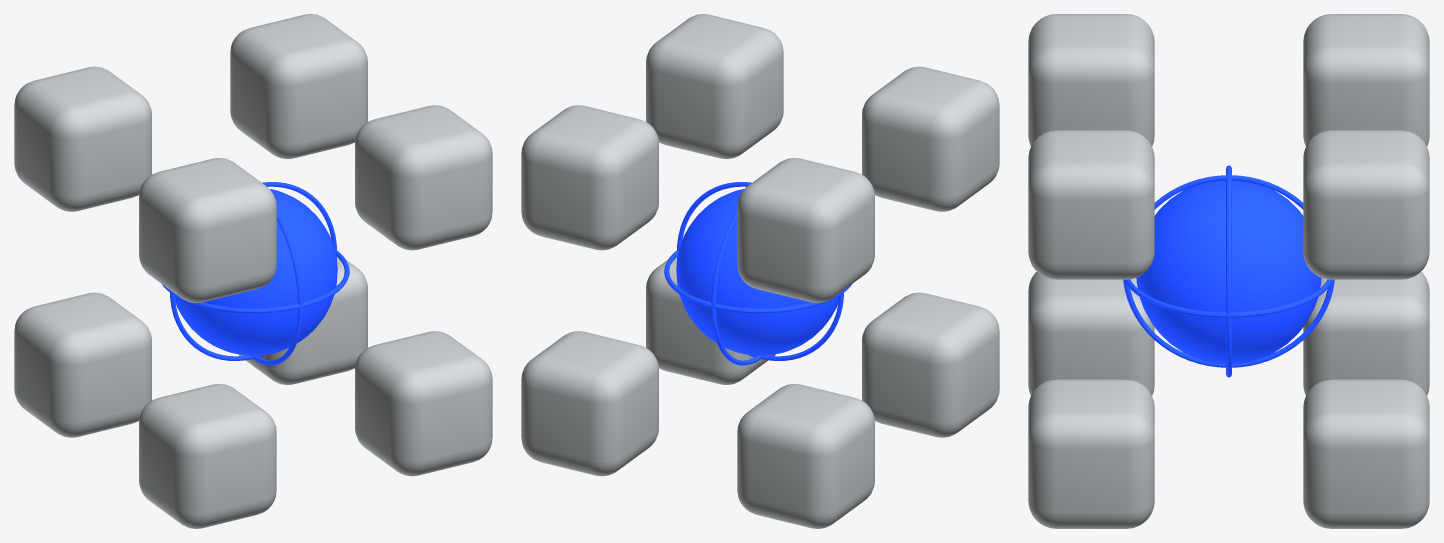
The model's file is sgs-core.glb.
The picture shows the model from 3 angles, left to right: view 1: azimuth 30°, elevation 25°; view 2: azimuth 150°, elevation 25°; view 3: azimuth 270°, elevation 25°; orthographic projection. The views are drawn at different scales.
Visible parts, largest first — view 1: Module_1_-1_1.001, Module_-1_-1_-1.001, Module_-1_-1_1.001, Module_1_-1_-1.001, Module_-1_1_-1.001, Module_1_1_1.001, Module_-1_1_1.001, Cobalt_Core.001, Module_1_1_-1.001, Core_circuit_0.001, Core_circuit_2.001, Core_circuit_1.001; view 2: Module_1_1_1.001, Module_-1_1_-1.001, Module_1_1_-1.001, Module_-1_1_1.001, Module_-1_-1_-1.001, Module_1_-1_1.001, Module_-1_-1_1.001, Cobalt_Core.001, Module_1_-1_-1.001, Core_circuit_0.001, Core_circuit_2.001, Core_circuit_1.001; view 3: Cobalt_Core.001, Module_1_-1_-1.001, Module_1_1_-1.001, Module_1_1_1.001, Module_1_-1_1.001, Module_-1_-1_1.001, Module_-1_1_1.001, Module_-1_-1_-1.001, Module_-1_1_-1.001, Core_circuit_1.001, Core_circuit_2.001, Core_circuit_0.001.
Part boxes in pixels (x1,y1,x2,y2): Module_1_-1_1.001: (355, 105, 492, 250); Module_-1_-1_-1.001: (139, 384, 276, 528); Module_-1_-1_1.001: (139, 158, 276, 302); Module_1_-1_-1.001: (355, 331, 492, 476); Module_-1_1_-1.001: (14, 292, 151, 437); Module_1_1_1.001: (230, 14, 367, 158); Module_-1_1_1.001: (14, 66, 151, 211); Cobalt_Core.001: (175, 189, 337, 355); Module_1_1_-1.001: (238, 257, 367, 384); Core_circuit_0.001: (170, 182, 336, 360); Core_circuit_2.001: (162, 250, 349, 313); Core_circuit_1.001: (252, 210, 302, 365); Module_1_1_1.001: (521, 105, 658, 250); Module_-1_1_-1.001: (737, 384, 874, 528); Module_1_1_-1.001: (521, 331, 658, 476); Module_-1_1_1.001: (737, 158, 874, 302); Module_-1_-1_-1.001: (862, 292, 999, 437); Module_1_-1_1.001: (646, 14, 783, 158); Module_-1_-1_1.001: (862, 66, 999, 211); Cobalt_Core.001: (676, 189, 838, 355); Module_1_-1_-1.001: (646, 257, 775, 384); Core_circuit_0.001: (677, 182, 843, 360); Core_circuit_2.001: (664, 250, 851, 313); Core_circuit_1.001: (711, 210, 761, 365); Cobalt_Core.001: (1136, 180, 1321, 364); Module_1_-1_-1.001: (1028, 379, 1154, 528); Module_1_1_-1.001: (1303, 379, 1429, 528); Module_1_1_1.001: (1303, 130, 1429, 279); Module_1_-1_1.001: (1028, 130, 1154, 279); Module_-1_-1_1.001: (1028, 14, 1154, 146); Module_-1_1_1.001: (1303, 14, 1429, 146); Module_-1_-1_-1.001: (1028, 272, 1154, 395); Module_-1_1_-1.001: (1303, 272, 1429, 395); Core_circuit_1.001: (1123, 175, 1334, 367); Core_circuit_2.001: (1125, 279, 1332, 317); Core_circuit_0.001: (1226, 165, 1231, 377).
Size of the model in its own units: 3.11 by 3.11 by 3.11.
